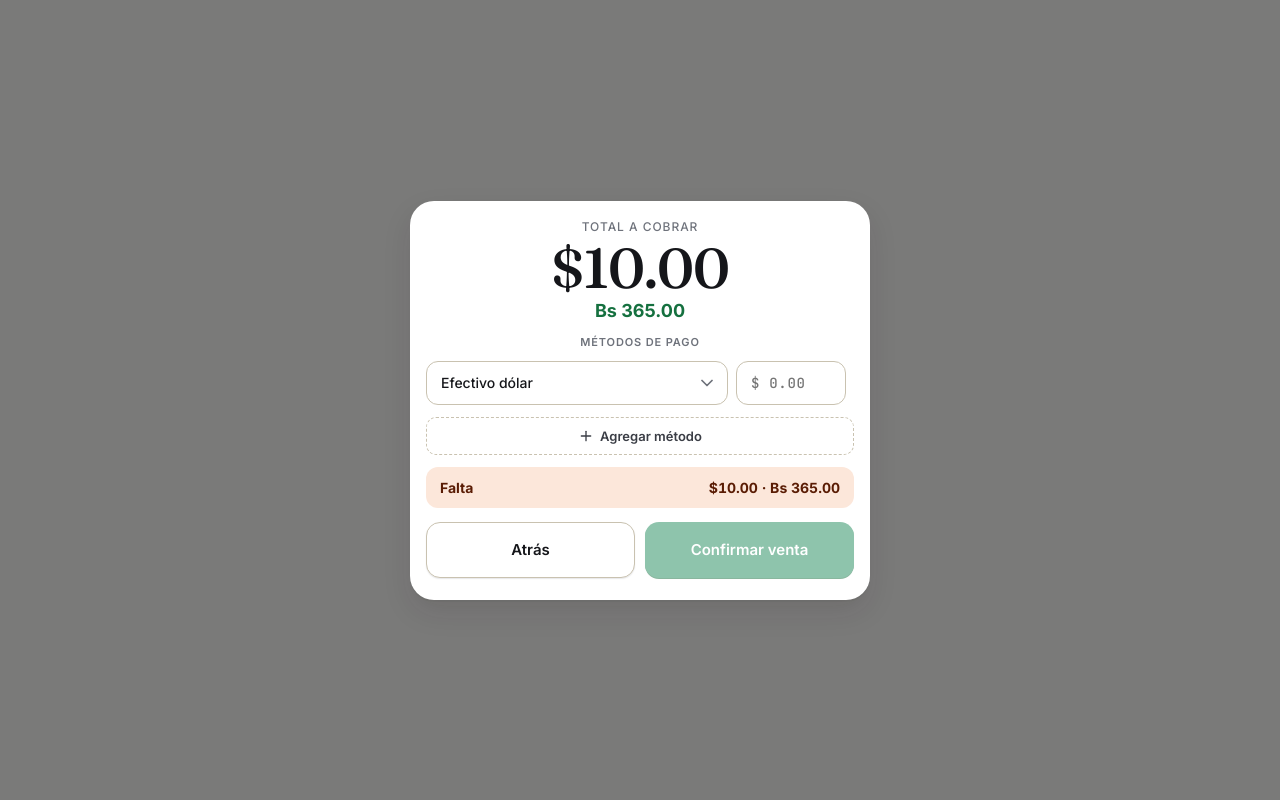
Scenario: PaymentSheet › input sanitizes pasted garbage to a money string
This screenshot has width=1280, height=800.
Type "12a.5.7" into the field with placeholder "$ 0.00" at (791, 382), box [736, 360, 846, 404]
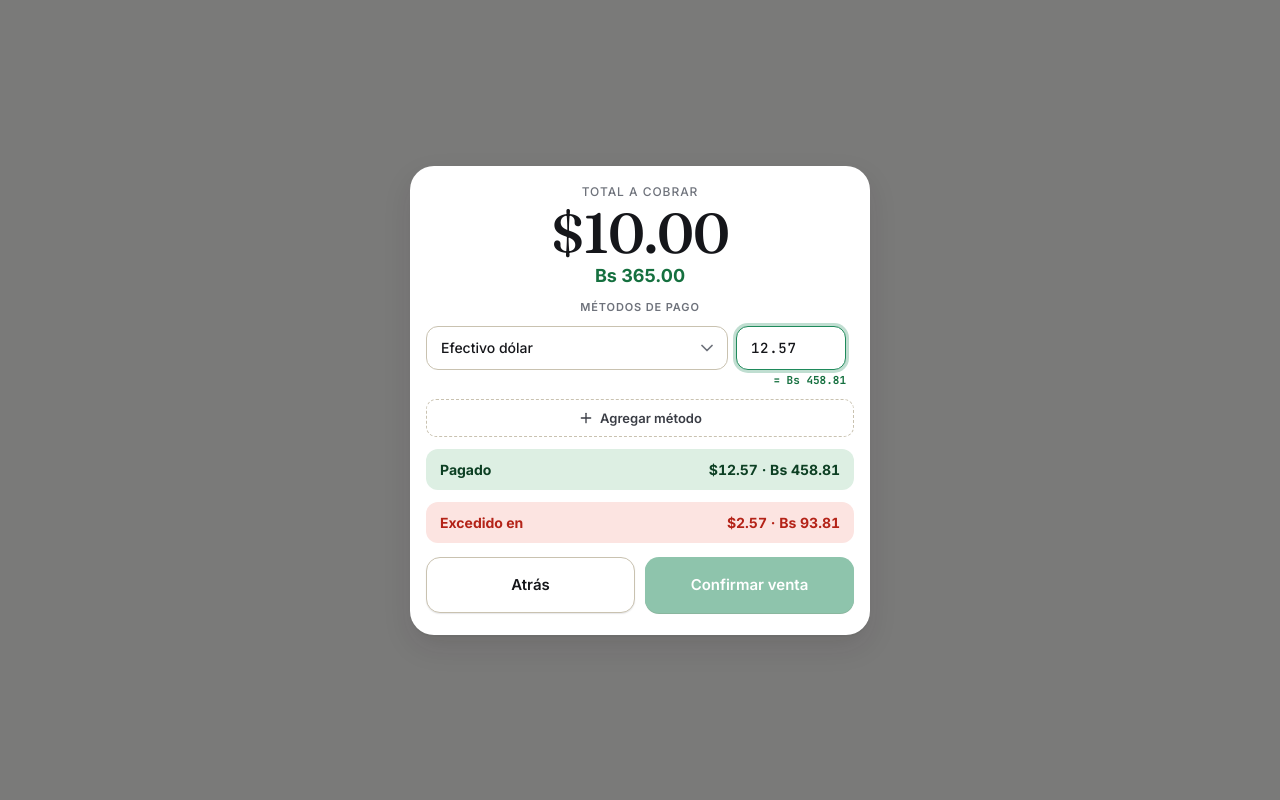
Check: the field with placeholder "$ 0.00" holds "12.57", box [736, 326, 846, 370]
